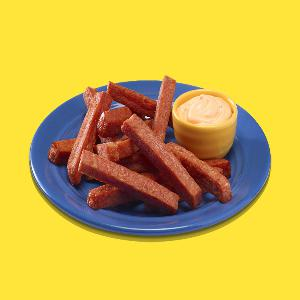fries: (41, 65, 239, 217)
